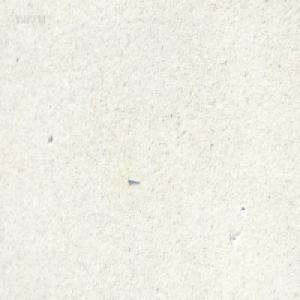Nail: (126, 175, 140, 184)
